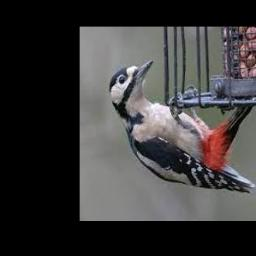Woodpecker: (109, 59, 255, 193)
